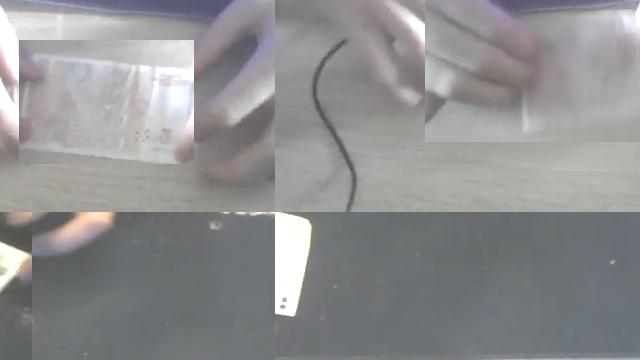5leva: (425, 0, 640, 142), (19, 40, 194, 164)
